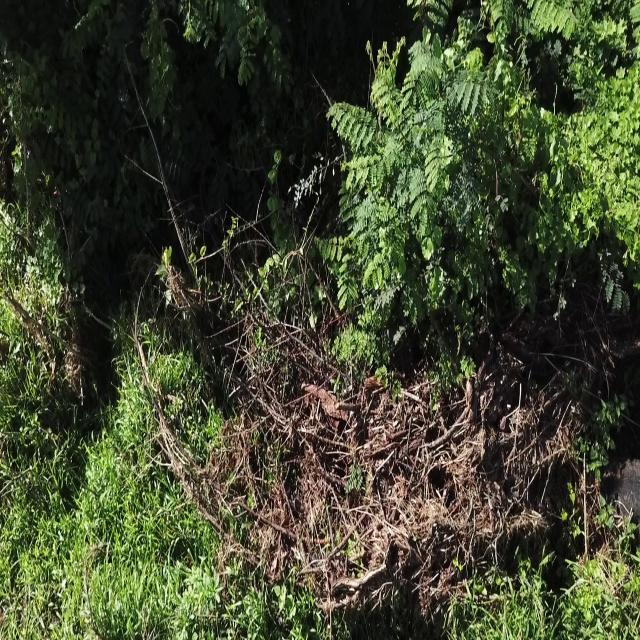Mysore-Thorn-Weed: (328, 9, 494, 354), (178, 0, 267, 87), (485, 0, 582, 46)
